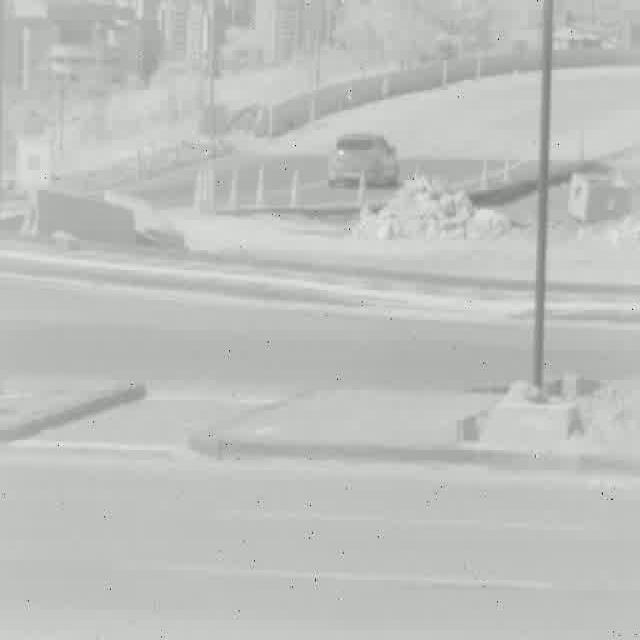Car: (328, 132, 399, 186)
